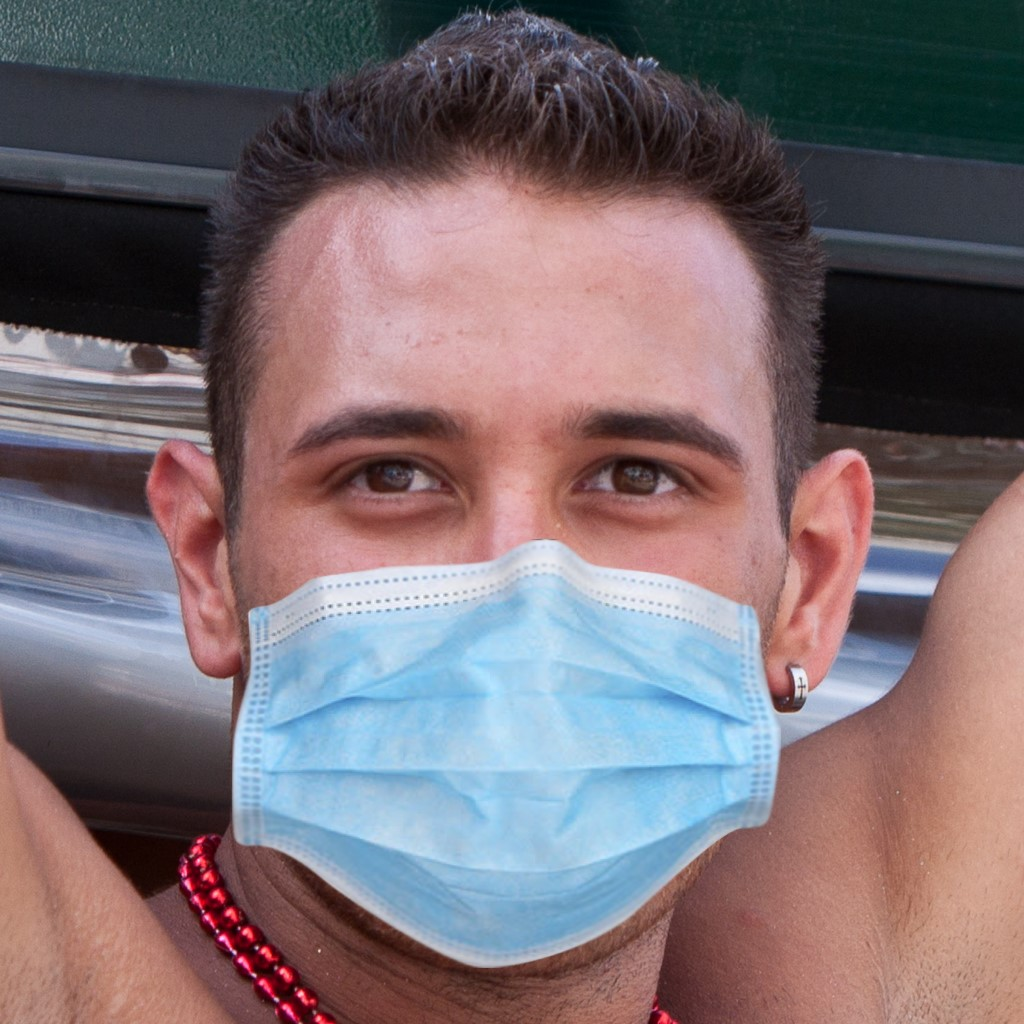con_mascara: (215, 141, 798, 973)
